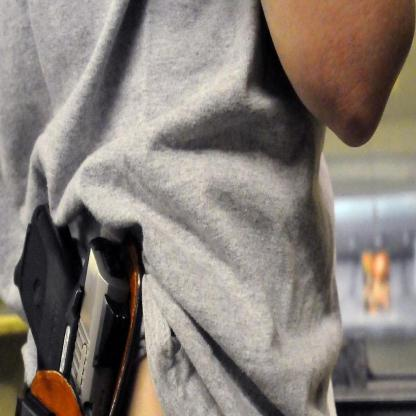gun: (0, 207, 135, 415)
